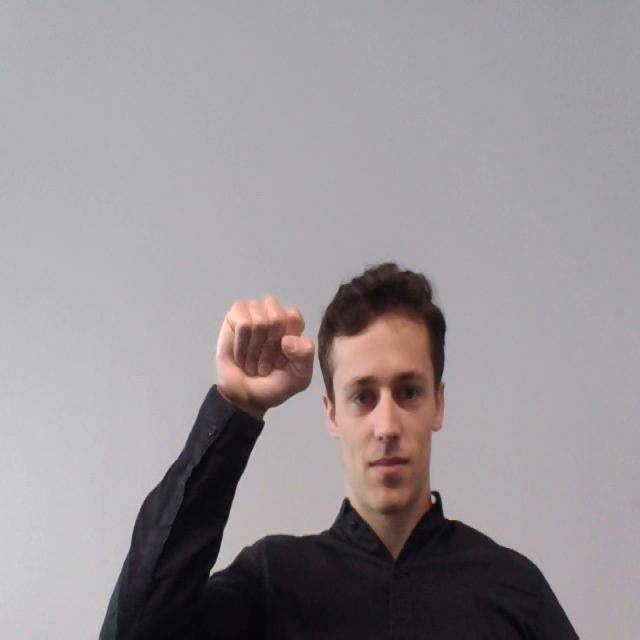stop: (216, 292, 320, 416)
